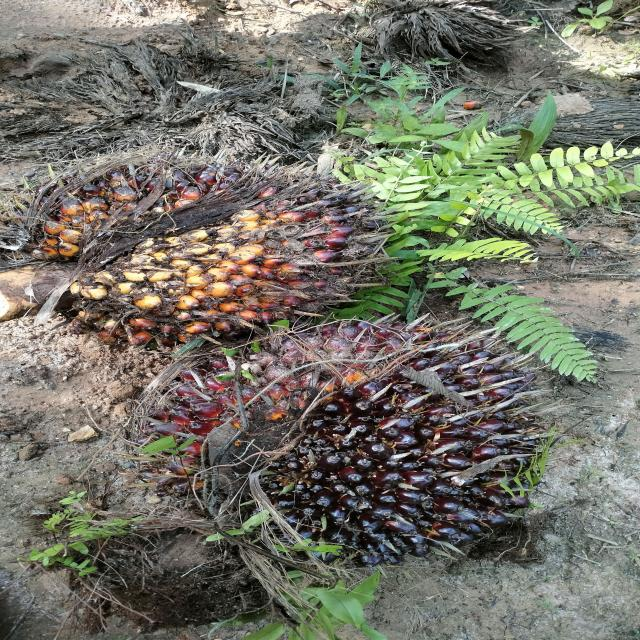fraksi 00: (116, 280, 585, 620), (0, 90, 449, 372)
